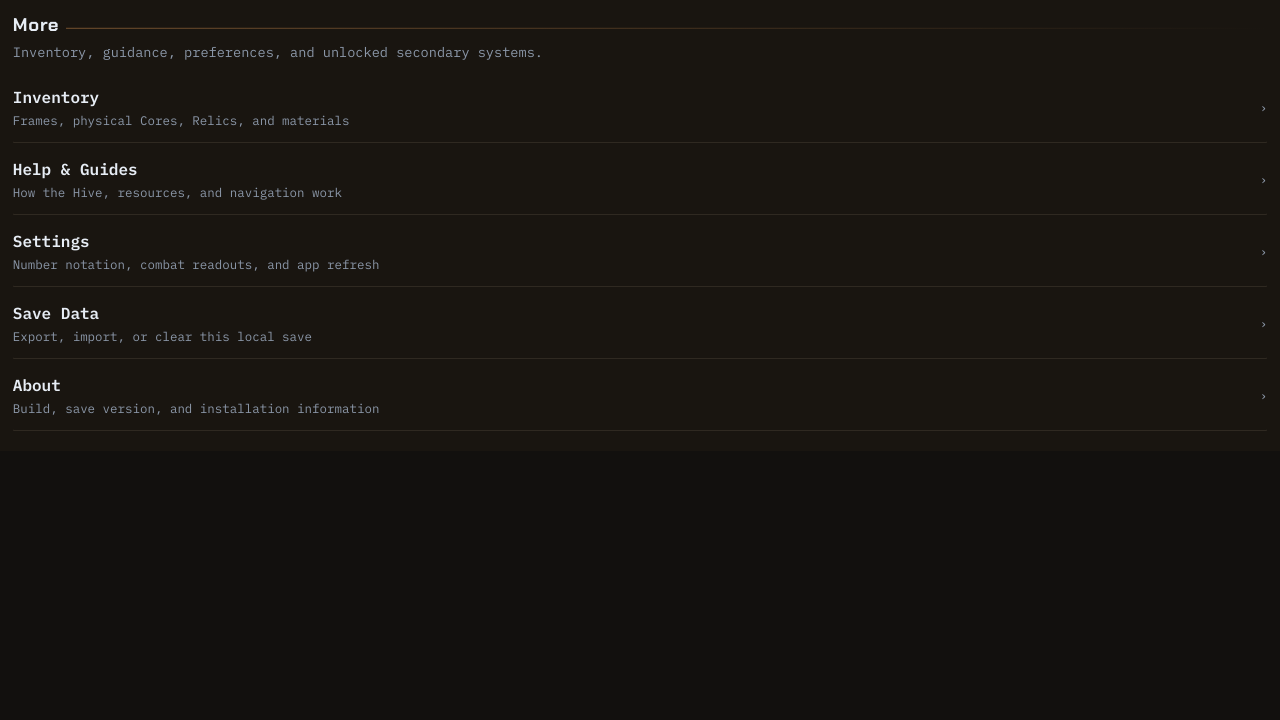
More hub navigation › opens Settings as a child and returns to the More hub
Click the button "Settings Number notation, combat readouts, and app refresh ›" at (51, 241), box [13, 215, 1267, 287]
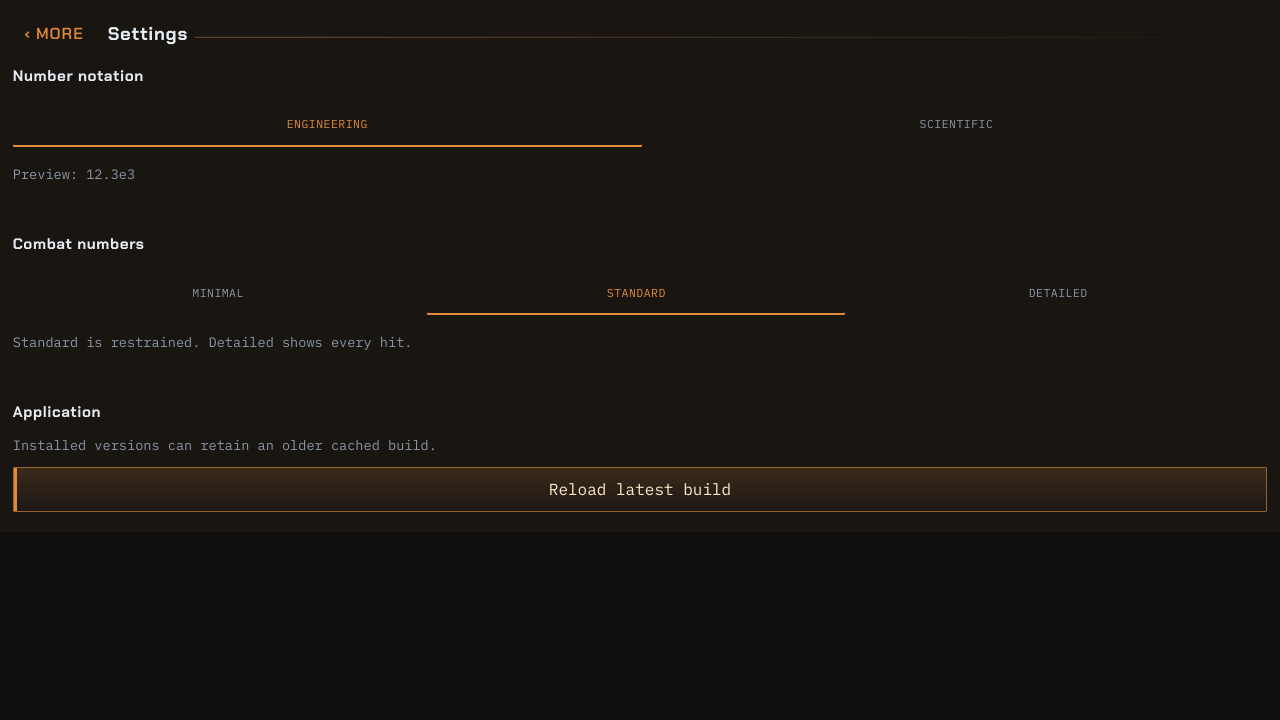
Now the heading "Settings" is shown, box [108, 22, 188, 46]
Now the element named "Number notation" is shown, box [13, 103, 1267, 147]
Click the button "More" at (54, 34), box [13, 12, 96, 56]
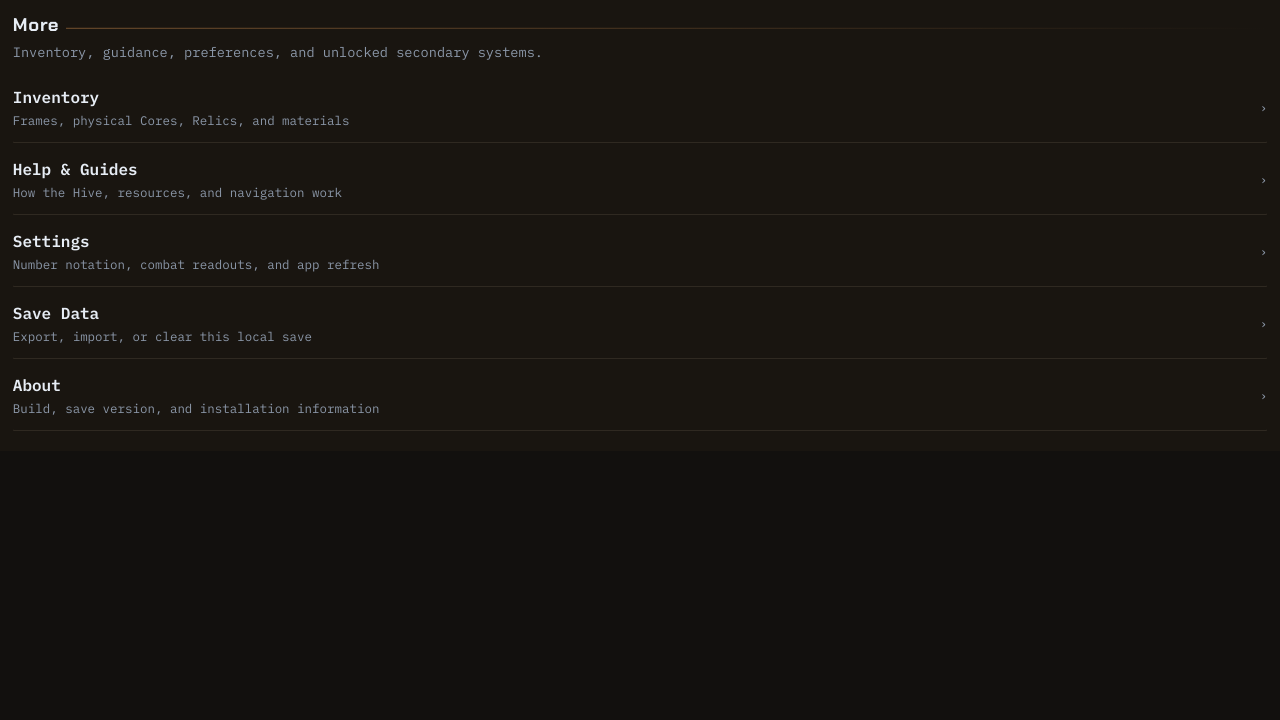
Now the button "Save Data Export, import, or clear this local save ›" is shown, box [13, 287, 1267, 359]
